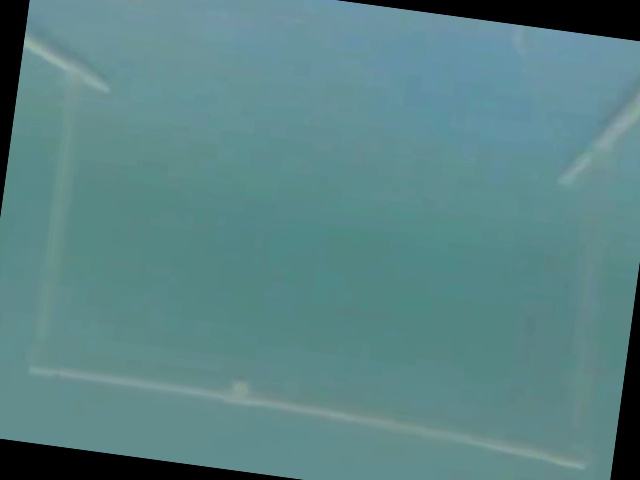gate: (17, 8, 640, 480)
